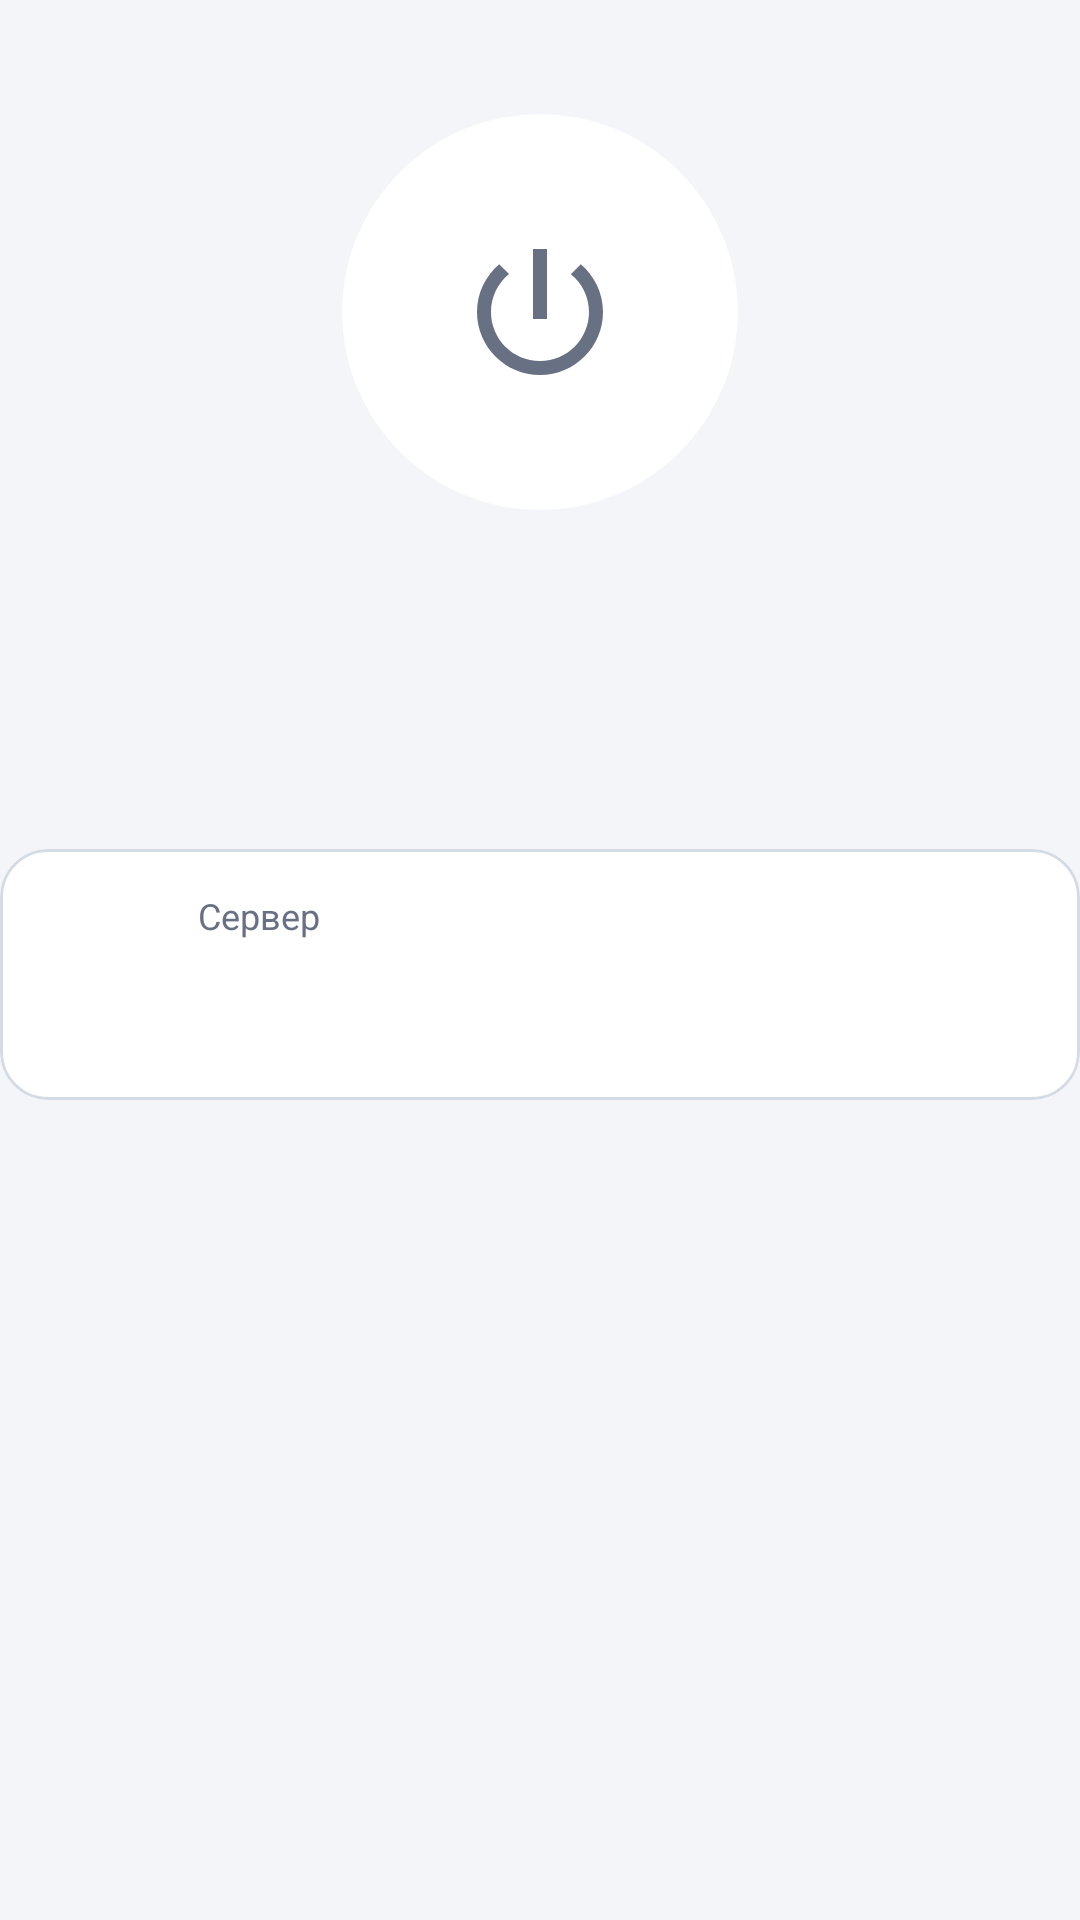

Locate icon controls on the screen. Image size 1080w x 1920h, boxes as (x1, y1, x2, y2).
power: (477, 249, 603, 375)
